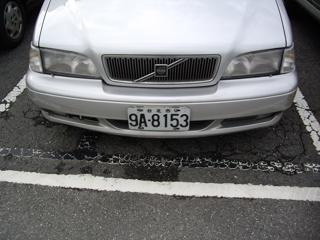plate: (126, 104, 192, 135)
